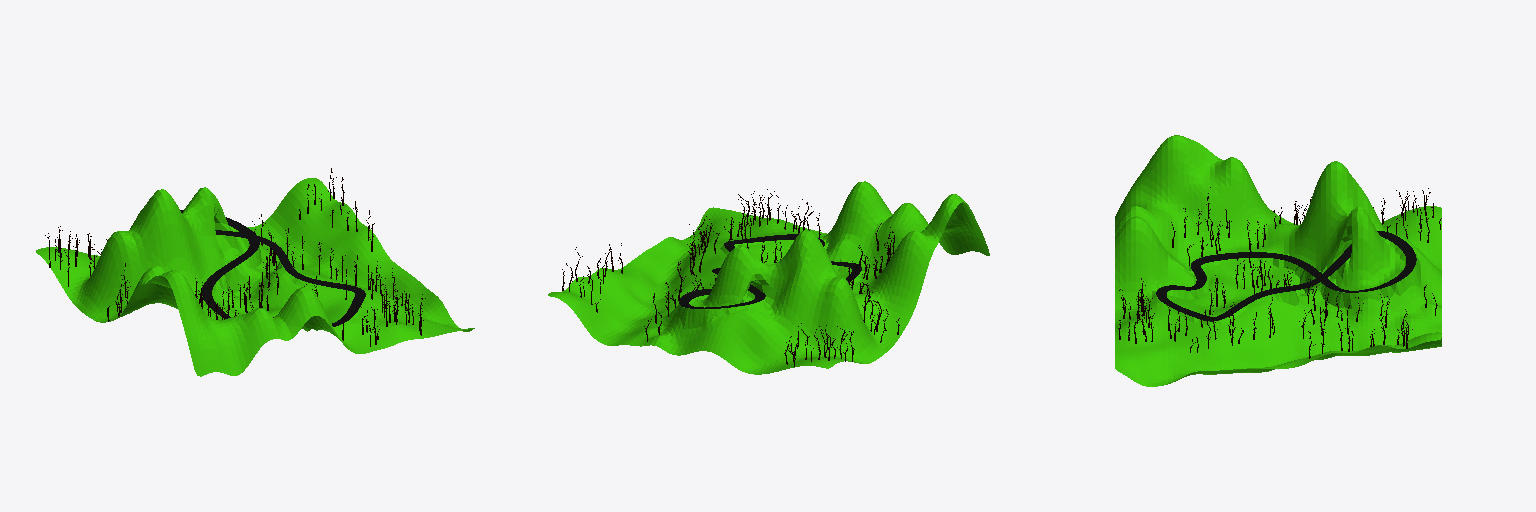
The model's file is TestMap.obj.
3 views of the same model, side by side, from view 1: azimuth 30°, elevation 25°; view 2: azimuth 150°, elevation 25°; view 3: azimuth 270°, elevation 25° (orthographic).
Parts seen in each view (by area): view 1: Plane.001, Plane; view 2: Plane.001, Plane; view 3: Plane.001, Plane.
Part boxes in pixels (bbox=[...]): Plane.001: bbox=[36, 168, 474, 376]; Plane: bbox=[180, 210, 365, 326]; Plane.001: bbox=[548, 181, 989, 374]; Plane: bbox=[679, 234, 861, 308]; Plane.001: bbox=[1115, 135, 1441, 386]; Plane: bbox=[1156, 231, 1416, 321].
Size of the model in its own units: 385 by 158 by 382.